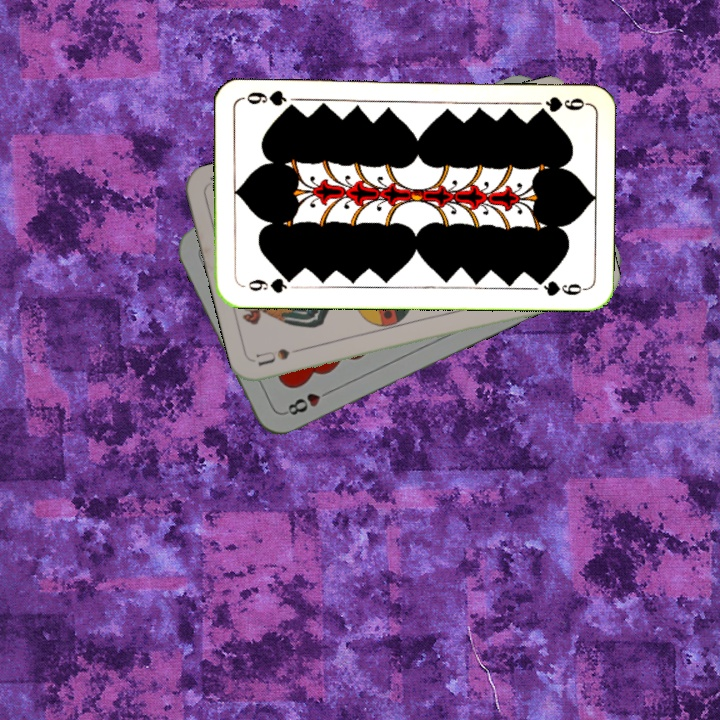G9: (532, 92, 589, 116), (244, 273, 297, 296)
H8: (280, 385, 335, 418)
SU: (253, 342, 312, 369)
